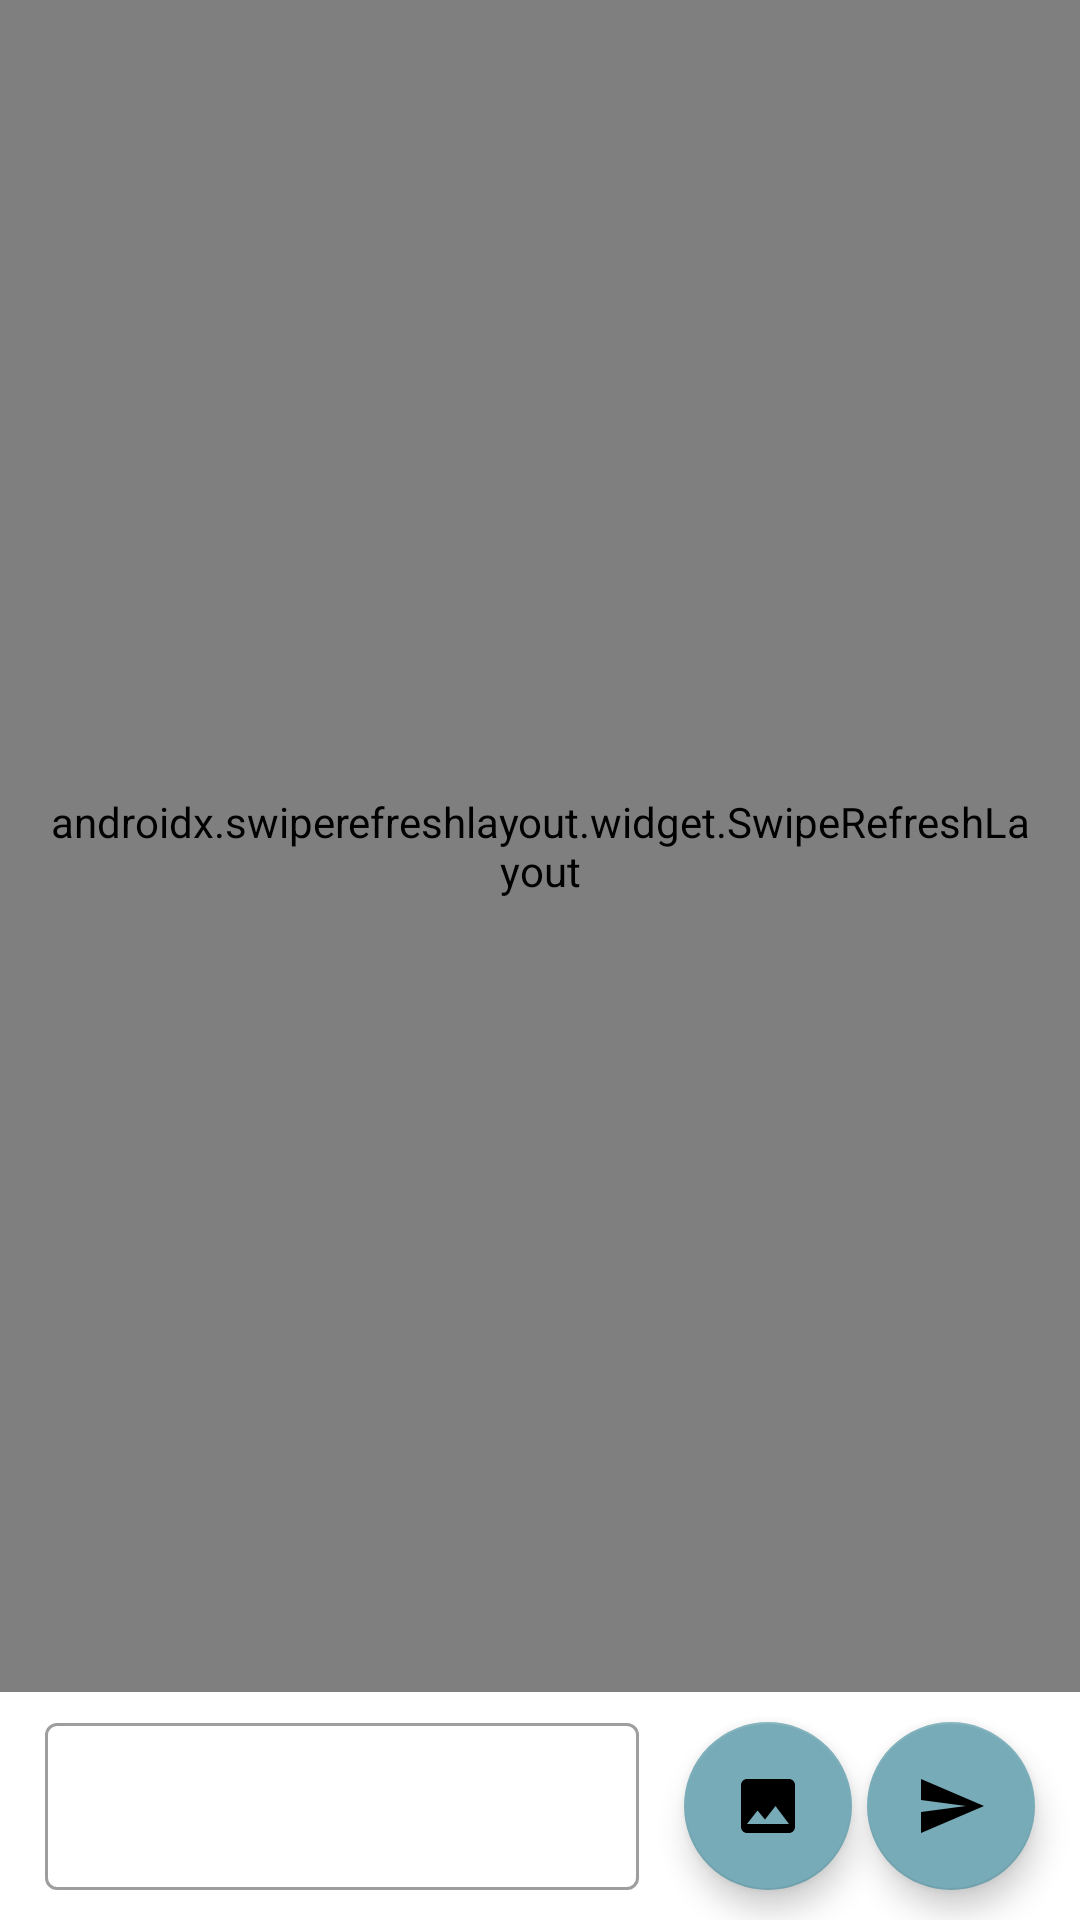

Icon click points for this 1080px x 1920px phone screenshot, format [x,y]:
send: [951,1806]
